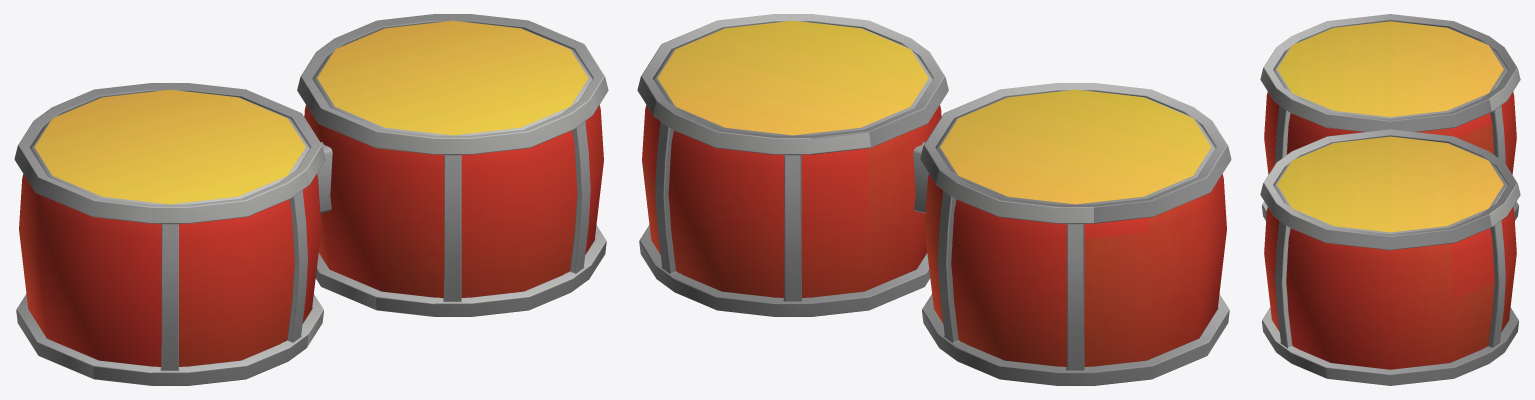
File: bongo_drum.001.fbx
3 views of the same model, side by side, from view 1: azimuth 30°, elevation 25°; view 2: azimuth 150°, elevation 25°; view 3: azimuth 270°, elevation 25° (orthographic). The views are drawn at different scales.
Visible parts, largest first — view 1: bongo_drum.001; view 2: bongo_drum.001; view 3: bongo_drum.001.
Boxes of the visible parts, left/top/right/bottom form: bongo_drum.001: left=14, top=14, right=608, bottom=385; bongo_drum.001: left=637, top=14, right=1231, bottom=385; bongo_drum.001: left=1260, top=14, right=1520, bottom=385.
Size of the model in its own units: 436 by 213 by 135.
1 material, 1 textured.
